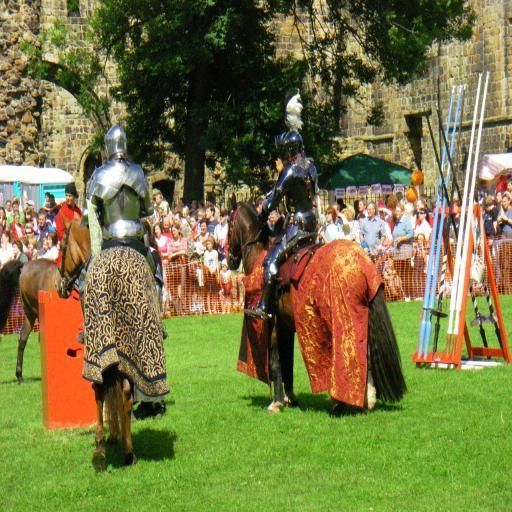horse: (226, 190, 408, 416), (54, 209, 138, 475), (0, 253, 58, 385)
